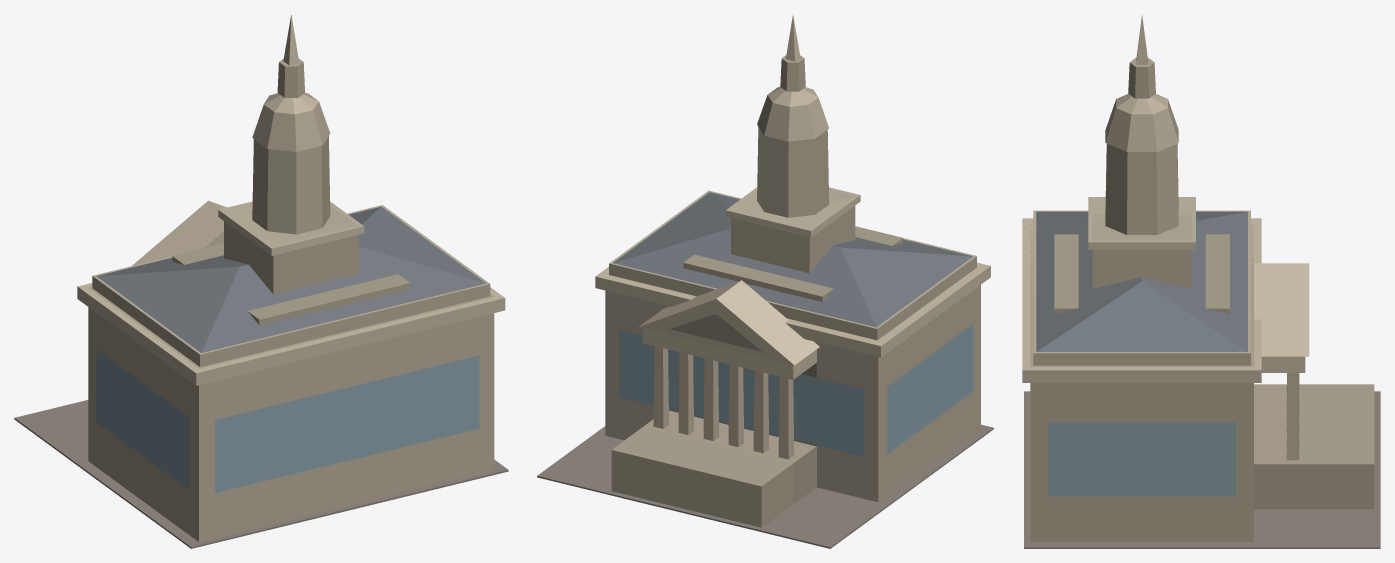
3 views of the same model, side by side, from view 1: azimuth 30°, elevation 25°; view 2: azimuth 150°, elevation 25°; view 3: azimuth 270°, elevation 25° (orthographic). The views are drawn at different scales.
Visible parts, largest first — view 1: brooklyn-borough-hall-lod2; view 2: brooklyn-borough-hall-lod2; view 3: brooklyn-borough-hall-lod2.
Part boxes in pixels (x1,y1,x2,y2): brooklyn-borough-hall-lod2: (14, 15, 508, 548); brooklyn-borough-hall-lod2: (537, 14, 993, 548); brooklyn-borough-hall-lod2: (1022, 14, 1380, 548).
Bounding box in the file's own units: 58 × 79.2 × 56.25.
